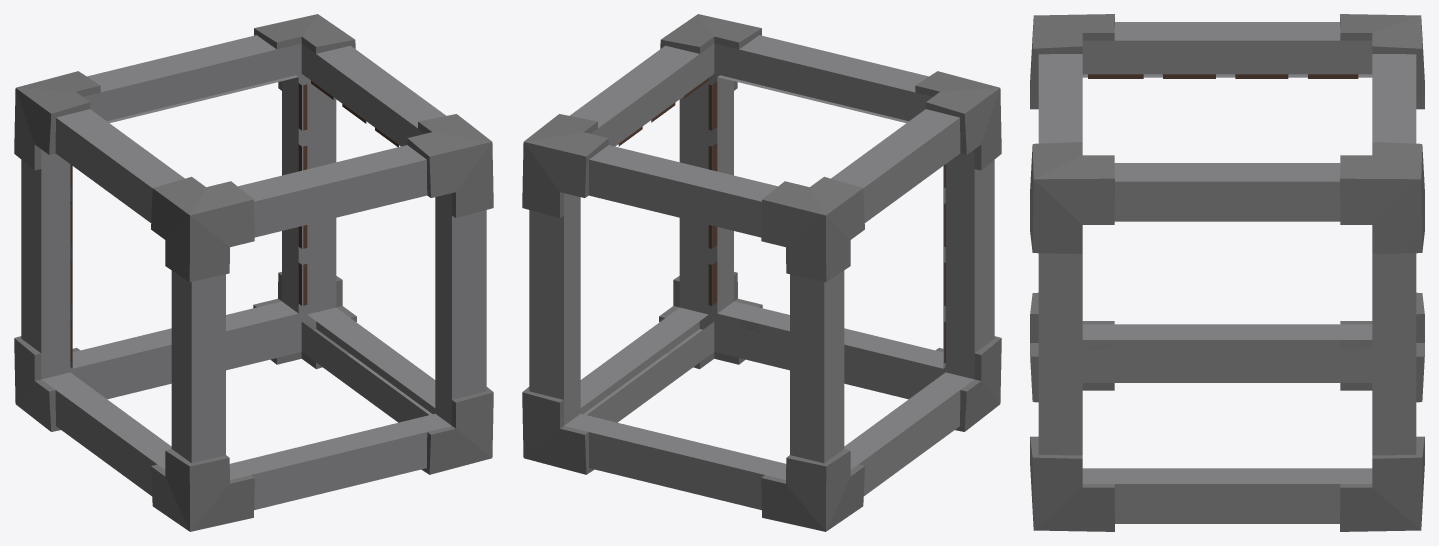
3 renders of one model, left to right at view 1: azimuth 30°, elevation 25°; view 2: azimuth 150°, elevation 25°; view 3: azimuth 270°, elevation 25°, orthographic. The views are drawn at different scales.
Visible parts, largest first — view 1: Cube.004; view 2: Cube.004; view 3: Cube.004.
Part boxes in pixels (bbox=[...]): Cube.004: bbox=[14, 14, 493, 531]; Cube.004: bbox=[522, 14, 1001, 531]; Cube.004: bbox=[1030, 14, 1424, 531].
Size of the model in its own units: 0.7 by 0.7 by 0.7.
1 material, 1 textured.
